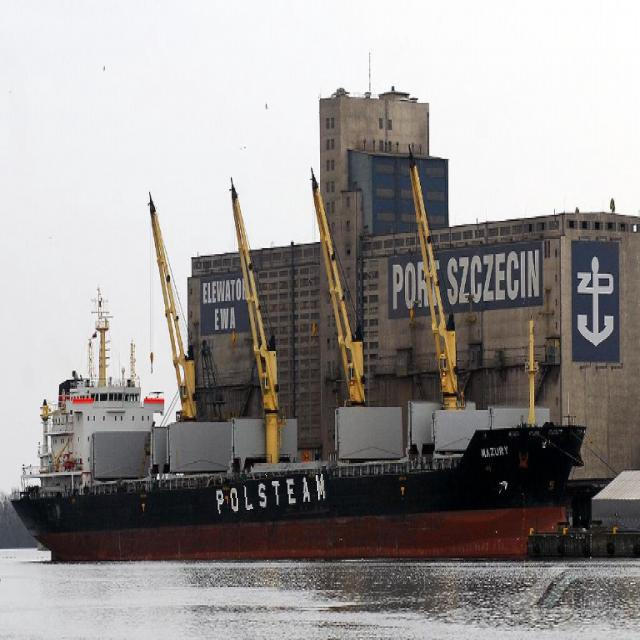OCR: (203, 474, 329, 522)
